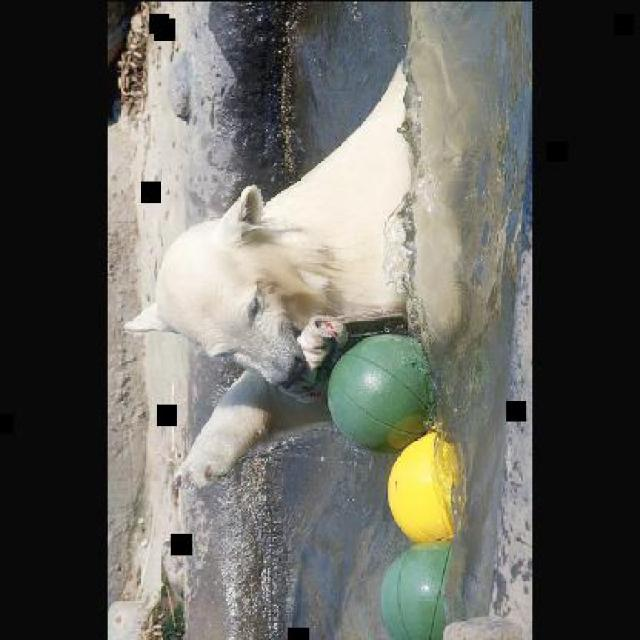unauthorized: (122, 48, 463, 492)
